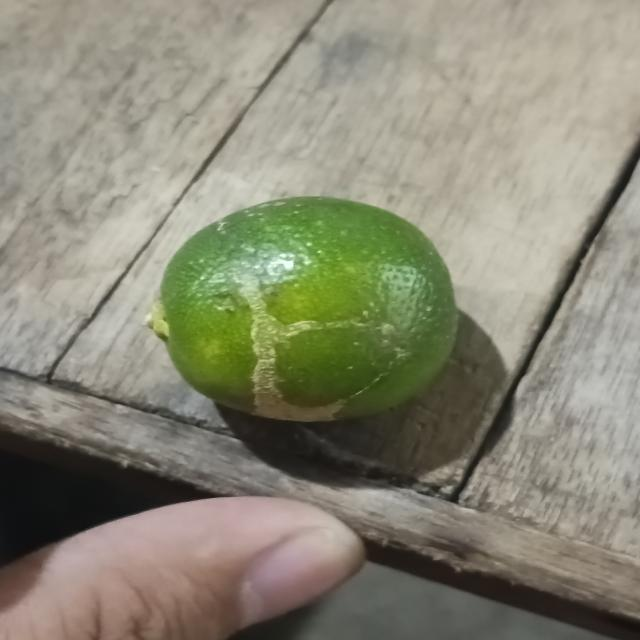thrips: (156, 194, 458, 428)
